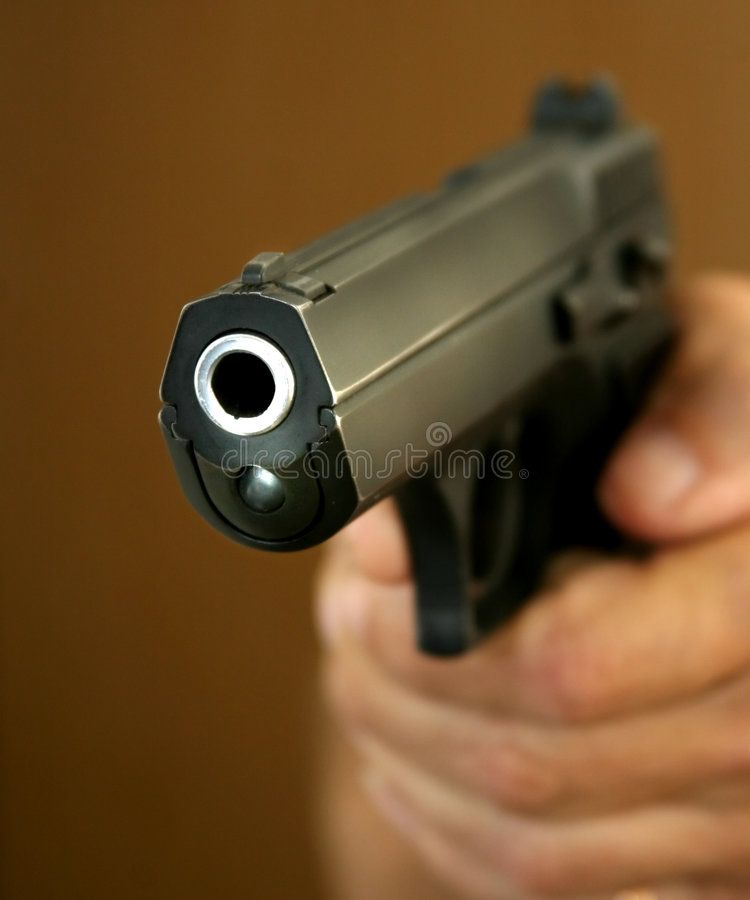gun: (150, 72, 687, 665)
